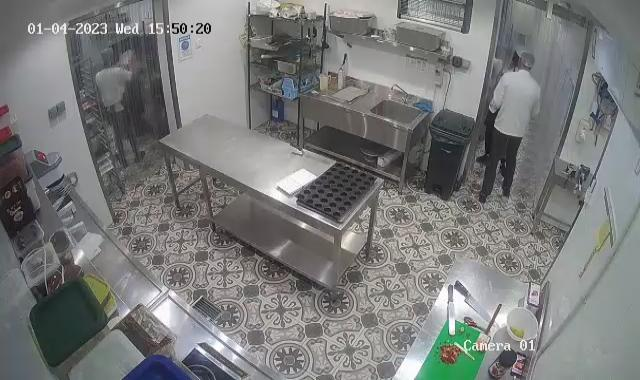hairnet: (517, 48, 536, 71)
